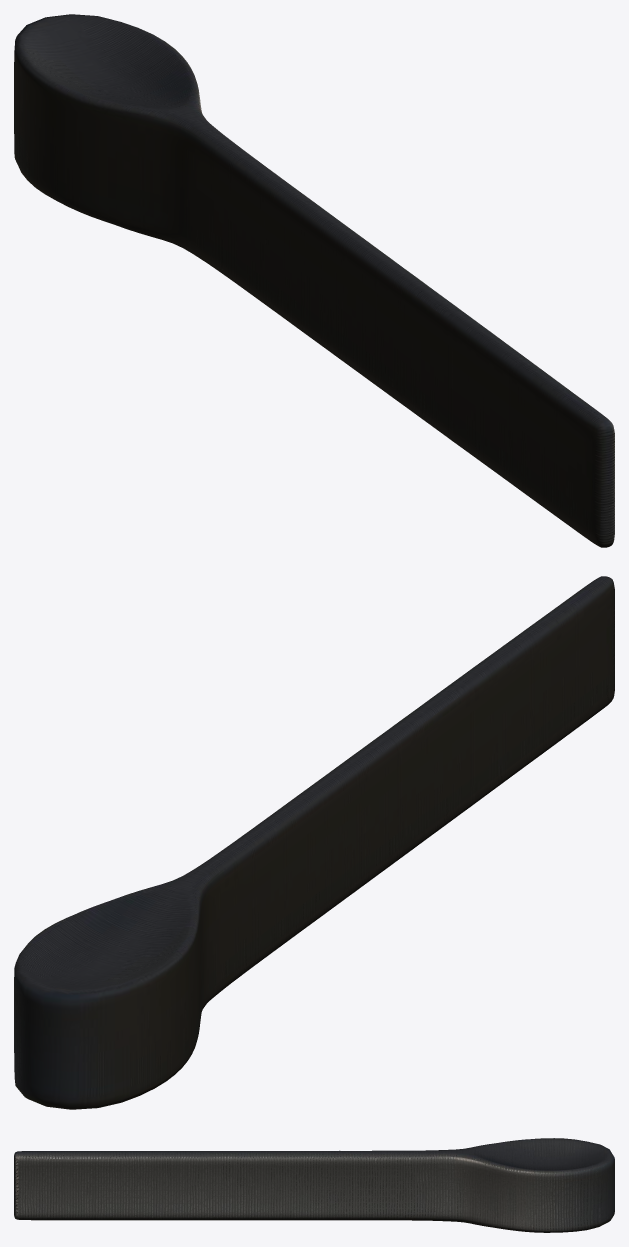
File: 32_Extrude.glb
3 renders of one model, top to bottom at view 1: azimuth 30°, elevation 25°; view 2: azimuth 150°, elevation 25°; view 3: azimuth 270°, elevation 25°, orthographic. The views are drawn at different scales.
Visible parts, largest first — view 1: 32_Extrude; view 2: 32_Extrude; view 3: 32_Extrude.
Boxes of the visible parts, box(x1,y1,x2,y2) form: 32_Extrude: box(14, 14, 614, 547); 32_Extrude: box(14, 576, 614, 1109); 32_Extrude: box(14, 1138, 614, 1232).
Bounding box in the file's own units: 0.0291 × 0.0269 × 0.2138.
Materials: 1 (1 with a texture image).
